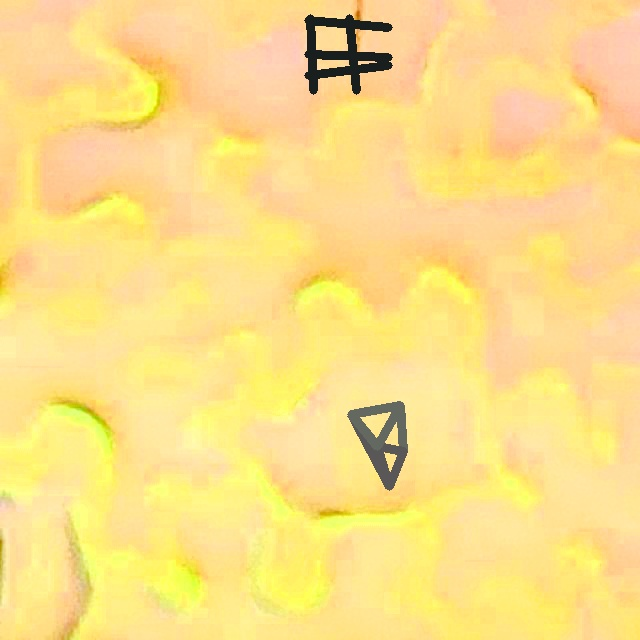close: (347, 401, 407, 490)
open: (305, 14, 391, 94)
